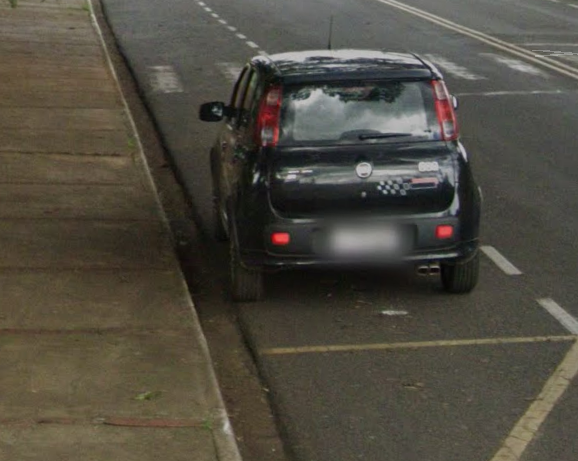car: (197, 46, 490, 315)
